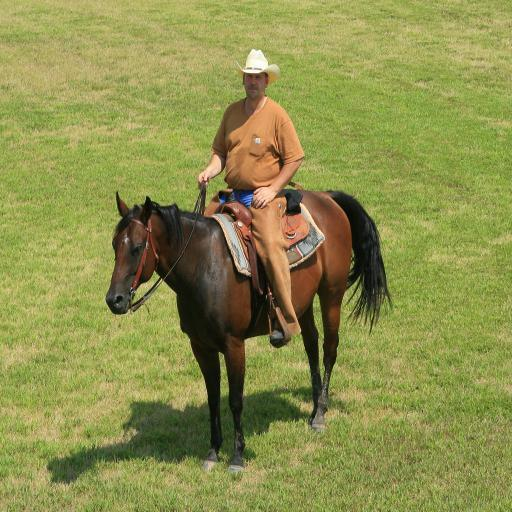horse: (106, 192, 392, 476)
